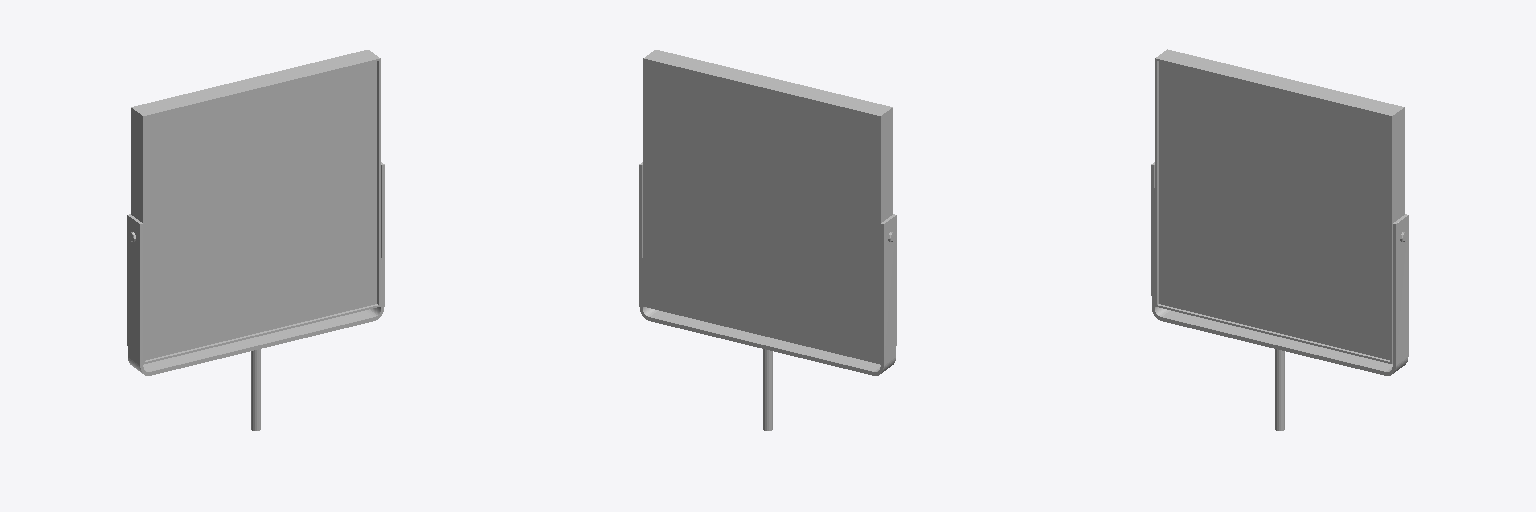
File: Luce blu.obj
The picture shows the model from 3 angles: view 1: azimuth 30°, elevation 25°; view 2: azimuth 150°, elevation 25°; view 3: azimuth 330°, elevation 25°; orthographic projection.
Visible parts, largest first — view 1: Flat_Panel_Stage_Light_Bulb, Flat_Panel_Stage_Light_Box, Flat_Panel_Stage_Light_Connector, Flat_Panel_Stage_Light_Holder; view 2: Flat_Panel_Stage_Light_Box, Flat_Panel_Stage_Light_Connector, Flat_Panel_Stage_Light_Holder; view 3: Flat_Panel_Stage_Light_Bulb, Flat_Panel_Stage_Light_Box, Flat_Panel_Stage_Light_Connector, Flat_Panel_Stage_Light_Holder.
Part boxes in pixels (x1,y1,x2,y2): Flat_Panel_Stage_Light_Bulb: (145, 61, 376, 360); Flat_Panel_Stage_Light_Box: (131, 50, 380, 364); Flat_Panel_Stage_Light_Connector: (127, 162, 384, 375); Flat_Panel_Stage_Light_Holder: (251, 349, 260, 430); Flat_Panel_Stage_Light_Box: (643, 50, 892, 364); Flat_Panel_Stage_Light_Connector: (639, 162, 896, 375); Flat_Panel_Stage_Light_Holder: (763, 349, 772, 430); Flat_Panel_Stage_Light_Bulb: (1159, 61, 1389, 359); Flat_Panel_Stage_Light_Box: (1155, 49, 1404, 363); Flat_Panel_Stage_Light_Connector: (1151, 162, 1408, 375); Flat_Panel_Stage_Light_Holder: (1275, 349, 1284, 430).
Size of the model in its own units: 1.05 by 1.39 by 0.0925.